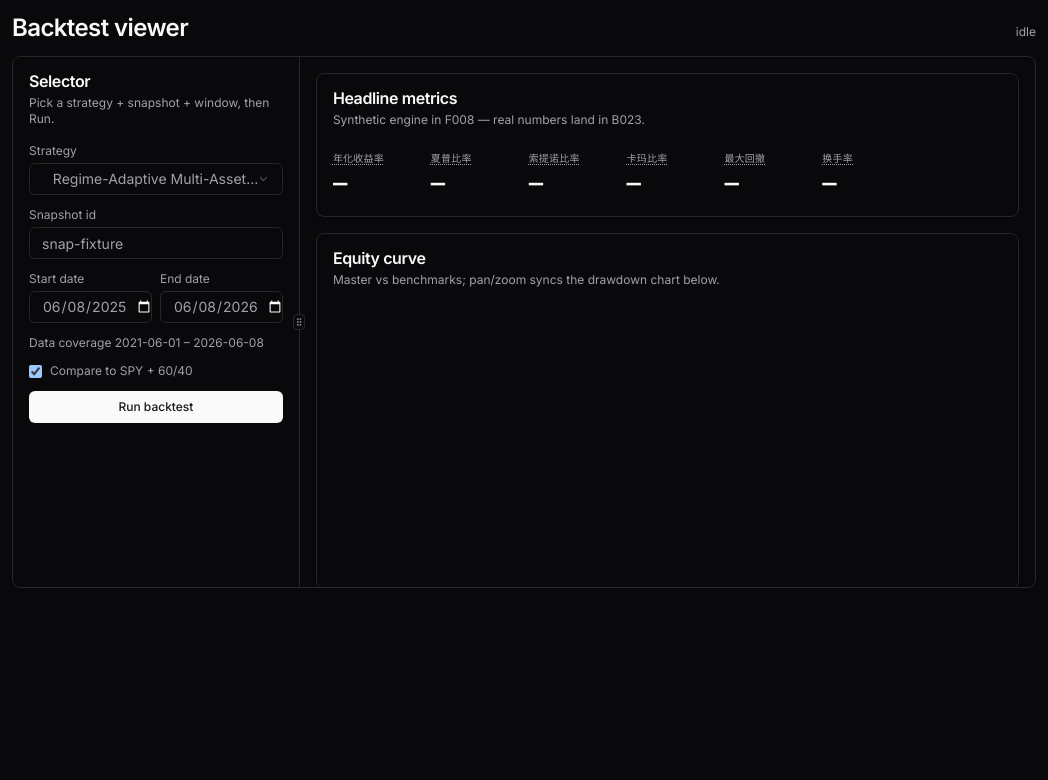
Test: BacktestPage (B022 F008) › surfaces a fetch error in the state line
This screenshot has width=1048, height=780.
What coordinates should you click on to do the following:
click the button with test id "backtest-run"
I would click on:
 (156, 407)
Its box is [29,391,283,423].
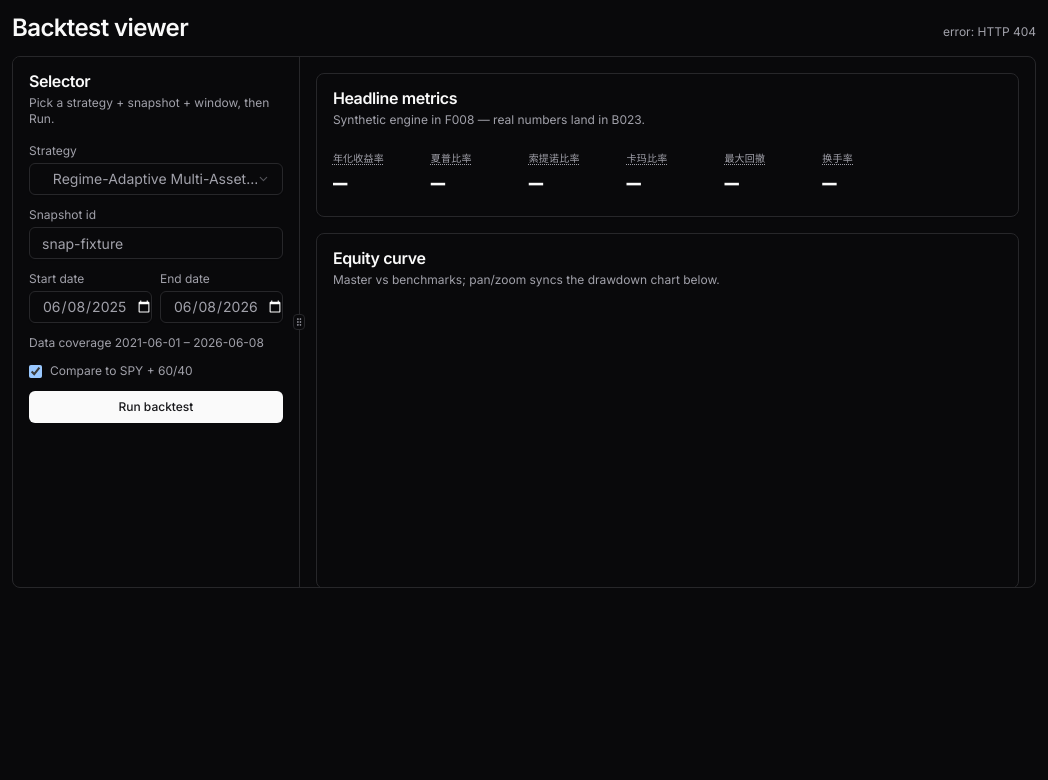
Result: the text with test id "backtest-state" shows "error" at [943,24,1036,39]
